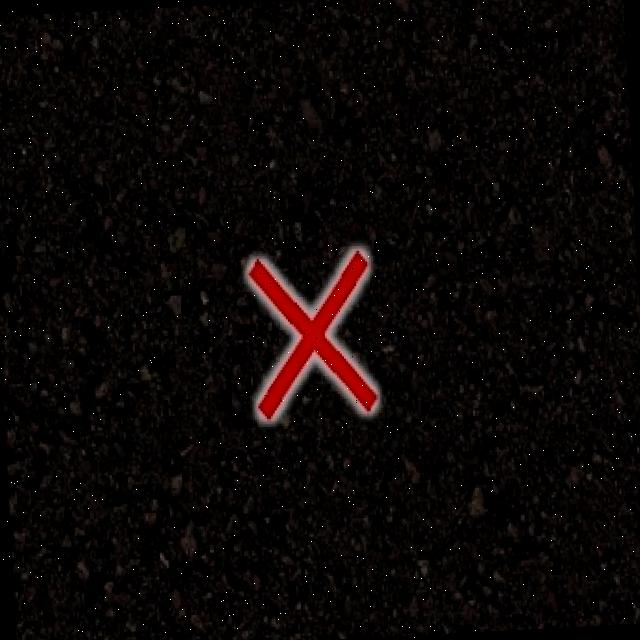x_marker: (248, 250, 376, 418)
